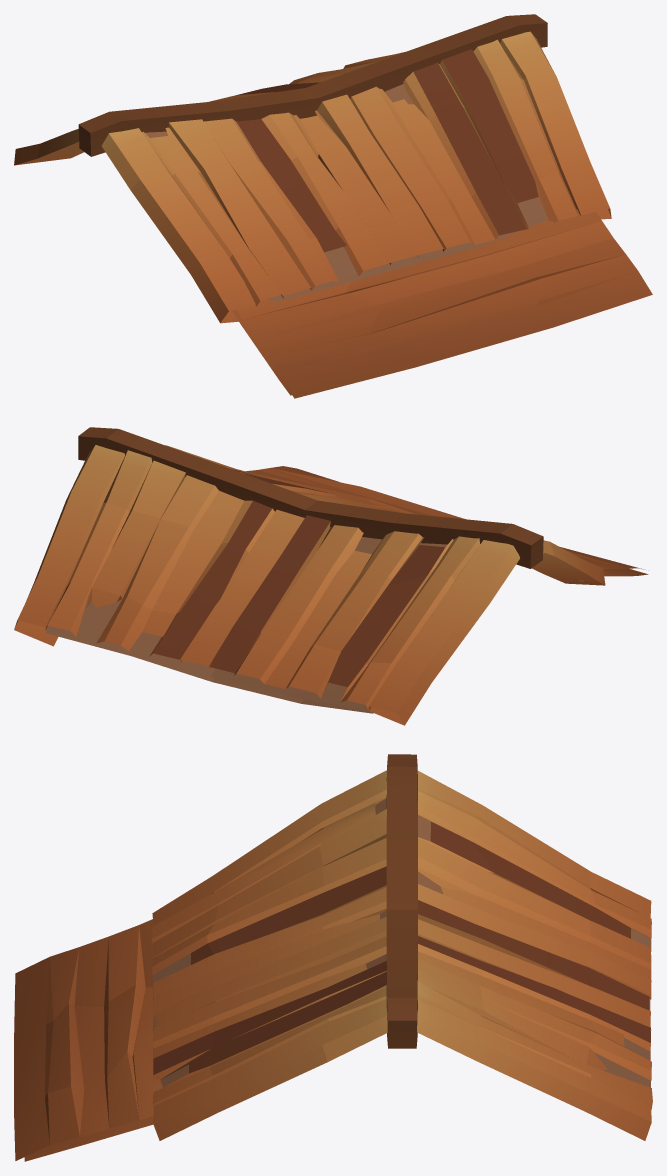
File: Shanty Preset 05 Roof.fbx
The picture shows the model from 3 angles, top to bottom: view 1: azimuth 30°, elevation 25°; view 2: azimuth 150°, elevation 25°; view 3: azimuth 270°, elevation 25°; orthographic projection. The views are drawn at different scales.
Parts seen in each view (by area): view 1: Shanty Preset 05 Roof high; view 2: Shanty Preset 05 Roof high, Shanty Preset 05 Roof low; view 3: Shanty Preset 05 Roof high, Shanty Preset 05 Roof low.
Part boxes in pixels (x1=…): Shanty Preset 05 Roof high: x1=14, y1=14, x2=652, y2=398; Shanty Preset 05 Roof high: x1=14, y1=427, x2=644, y2=725; Shanty Preset 05 Roof low: x1=46, y1=568, x2=648, y2=713; Shanty Preset 05 Roof high: x1=14, y1=754, x2=652, y2=1160; Shanty Preset 05 Roof low: x1=24, y1=798, x2=386, y2=1161.
Bounding box in the file's own units: 6.67 × 2.32 × 6.81.
Materials: 1 (1 with a texture image).
